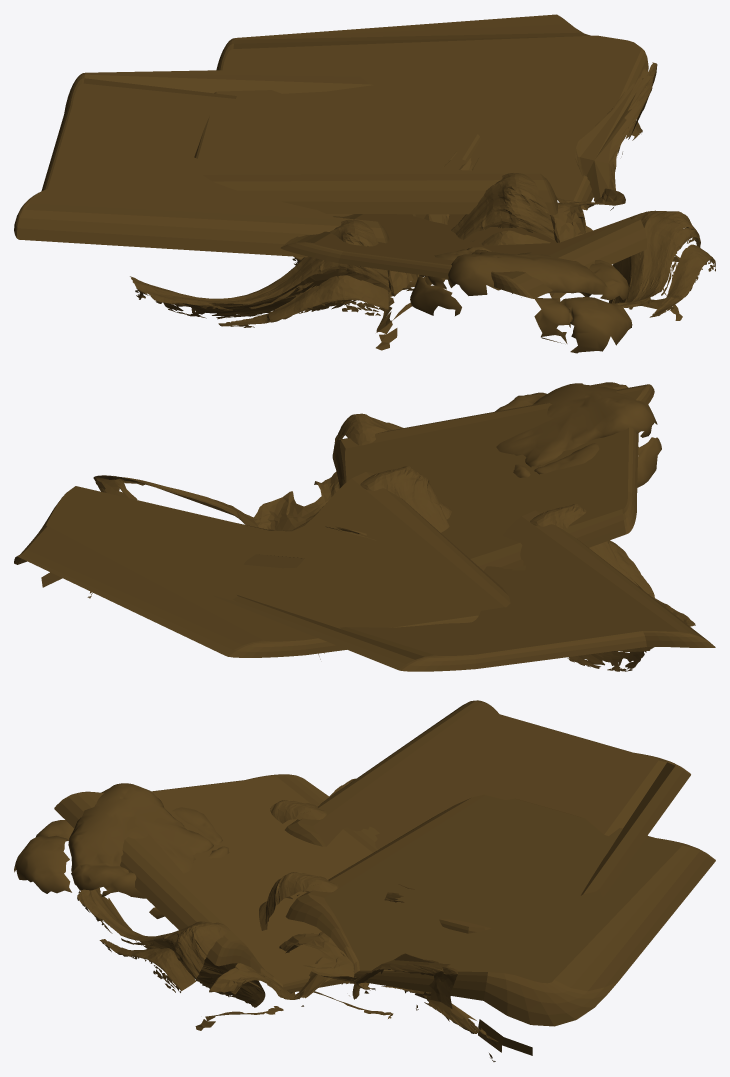
Rendered from GrassTerrain_004_Grass.glb.
The picture shows the model from 3 angles, top to bottom: view 1: azimuth 30°, elevation 25°; view 2: azimuth 150°, elevation 25°; view 3: azimuth 270°, elevation 25°; orthographic projection. The views are drawn at different scales.
Visible parts, largest first — view 1: 立方体.004_Grass; view 2: 立方体.004_Grass; view 3: 立方体.004_Grass.
Boxes of the visible parts, box(x1,y1,x2,y2) form: 立方体.004_Grass: box(14, 14, 715, 353); 立方体.004_Grass: box(14, 382, 715, 671); 立方体.004_Grass: box(14, 700, 715, 1061).
Size of the model in its own units: 997 by 256 by 1027.
